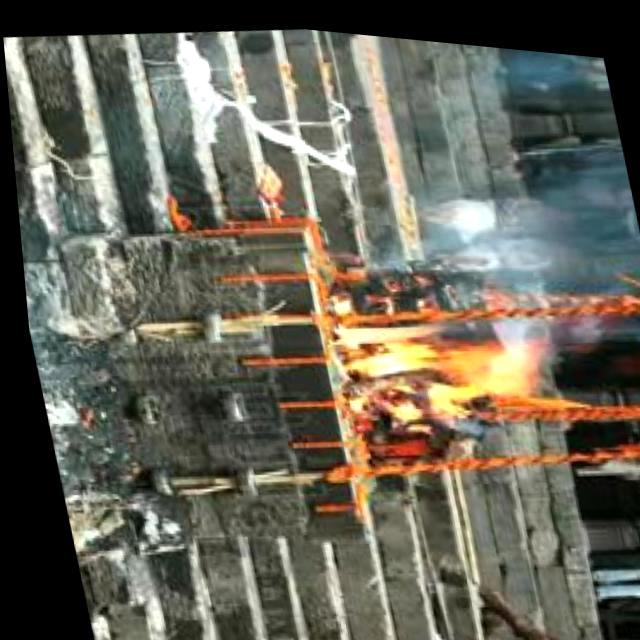fire: (315, 290, 541, 434)
